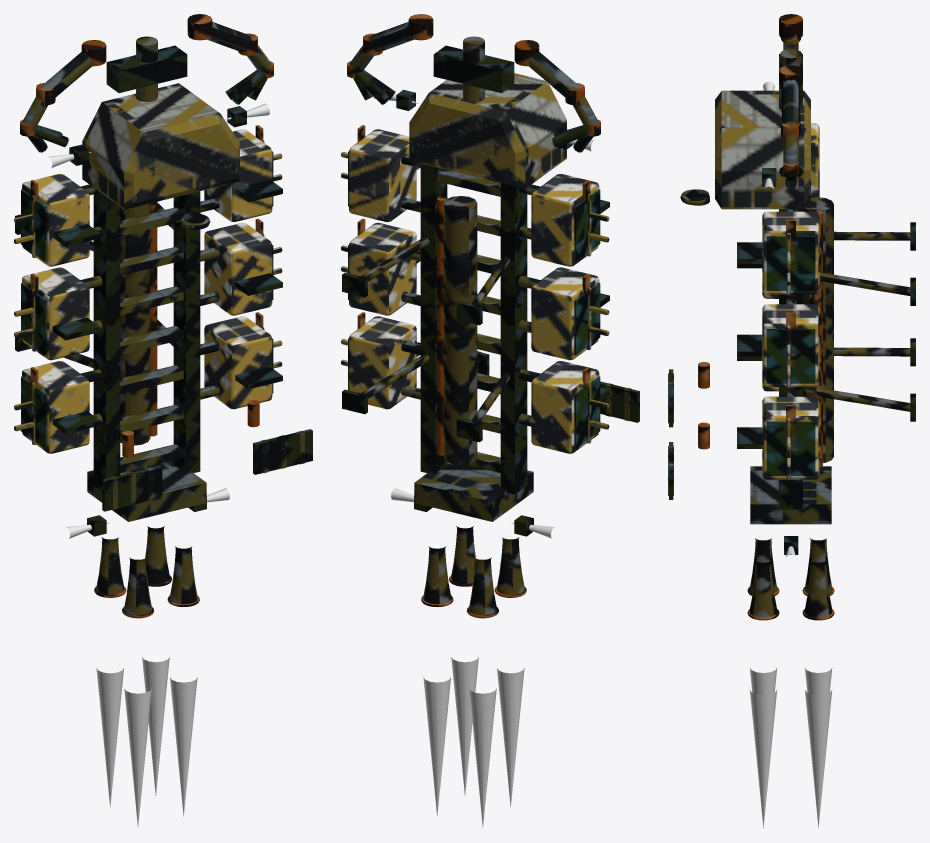
File: mule.glb
3 views of the same model, side by side, from view 1: azimuth 30°, elevation 25°; view 2: azimuth 150°, elevation 25°; view 3: azimuth 270°, elevation 25° (orthographic).
Visible parts, largest first — view 1: merged-263c43, merged-ededea, merged-a3a7a4, merged-5d6a72, merged-646a6c, flame (×4), merged-a56233, merged-275459, merged-ae7040; view 2: merged-ededea, merged-263c43, merged-646a6c, merged-a3a7a4, merged-5d6a72, flame (×4), merged-a56233, merged-275459, merged-ae7040; view 3: merged-a3a7a4, merged-646a6c, merged-275459, merged-ededea, merged-5d6a72, merged-263c43, flame (×4), merged-a56233, merged-ae7040.
Part boxes in pixels (x1=…): merged-263c43: x1=15, y1=45, x2=312, y2=536; merged-ededea: x1=22, y1=129, x2=272, y2=453; merged-a3a7a4: x1=14, y1=83, x2=282, y2=444; merged-5d6a72: x1=22, y1=22, x2=304, y2=521; merged-646a6c: x1=63, y1=36, x2=197, y2=615; flame (×4): x1=96, y1=657, x2=197, y2=827; merged-a56233: x1=20, y1=14, x2=273, y2=618; merged-275459: x1=21, y1=151, x2=273, y2=448; merged-ae7040: x1=30, y1=125, x2=263, y2=425; merged-ededea: x1=349, y1=129, x2=599, y2=453; merged-263c43: x1=342, y1=45, x2=639, y2=536; merged-646a6c: x1=361, y1=36, x2=524, y2=615; merged-a3a7a4: x1=341, y1=73, x2=609, y2=443; merged-5d6a72: x1=349, y1=22, x2=631, y2=521; flame (×4): x1=423, y1=657, x2=524, y2=827; merged-a56233: x1=347, y1=14, x2=600, y2=618; merged-275459: x1=348, y1=151, x2=600, y2=448; merged-ae7040: x1=357, y1=125, x2=590, y2=387; merged-a3a7a4: x1=715, y1=90, x2=810, y2=480; merged-646a6c: x1=749, y1=49, x2=910, y2=617; merged-275459: x1=766, y1=236, x2=815, y2=475; merged-ededea: x1=762, y1=123, x2=819, y2=479; merged-5d6a72: x1=668, y1=39, x2=831, y2=524; merged-263c43: x1=669, y1=54, x2=915, y2=554; flame (×4): x1=749, y1=667, x2=832, y2=828; merged-a56233: x1=698, y1=14, x2=834, y2=620; merged-ae7040: x1=786, y1=219, x2=795, y2=459.
Bounding box in the file's own units: 27.76 × 77.5 × 22.53.
9 materials, 8 textured.
